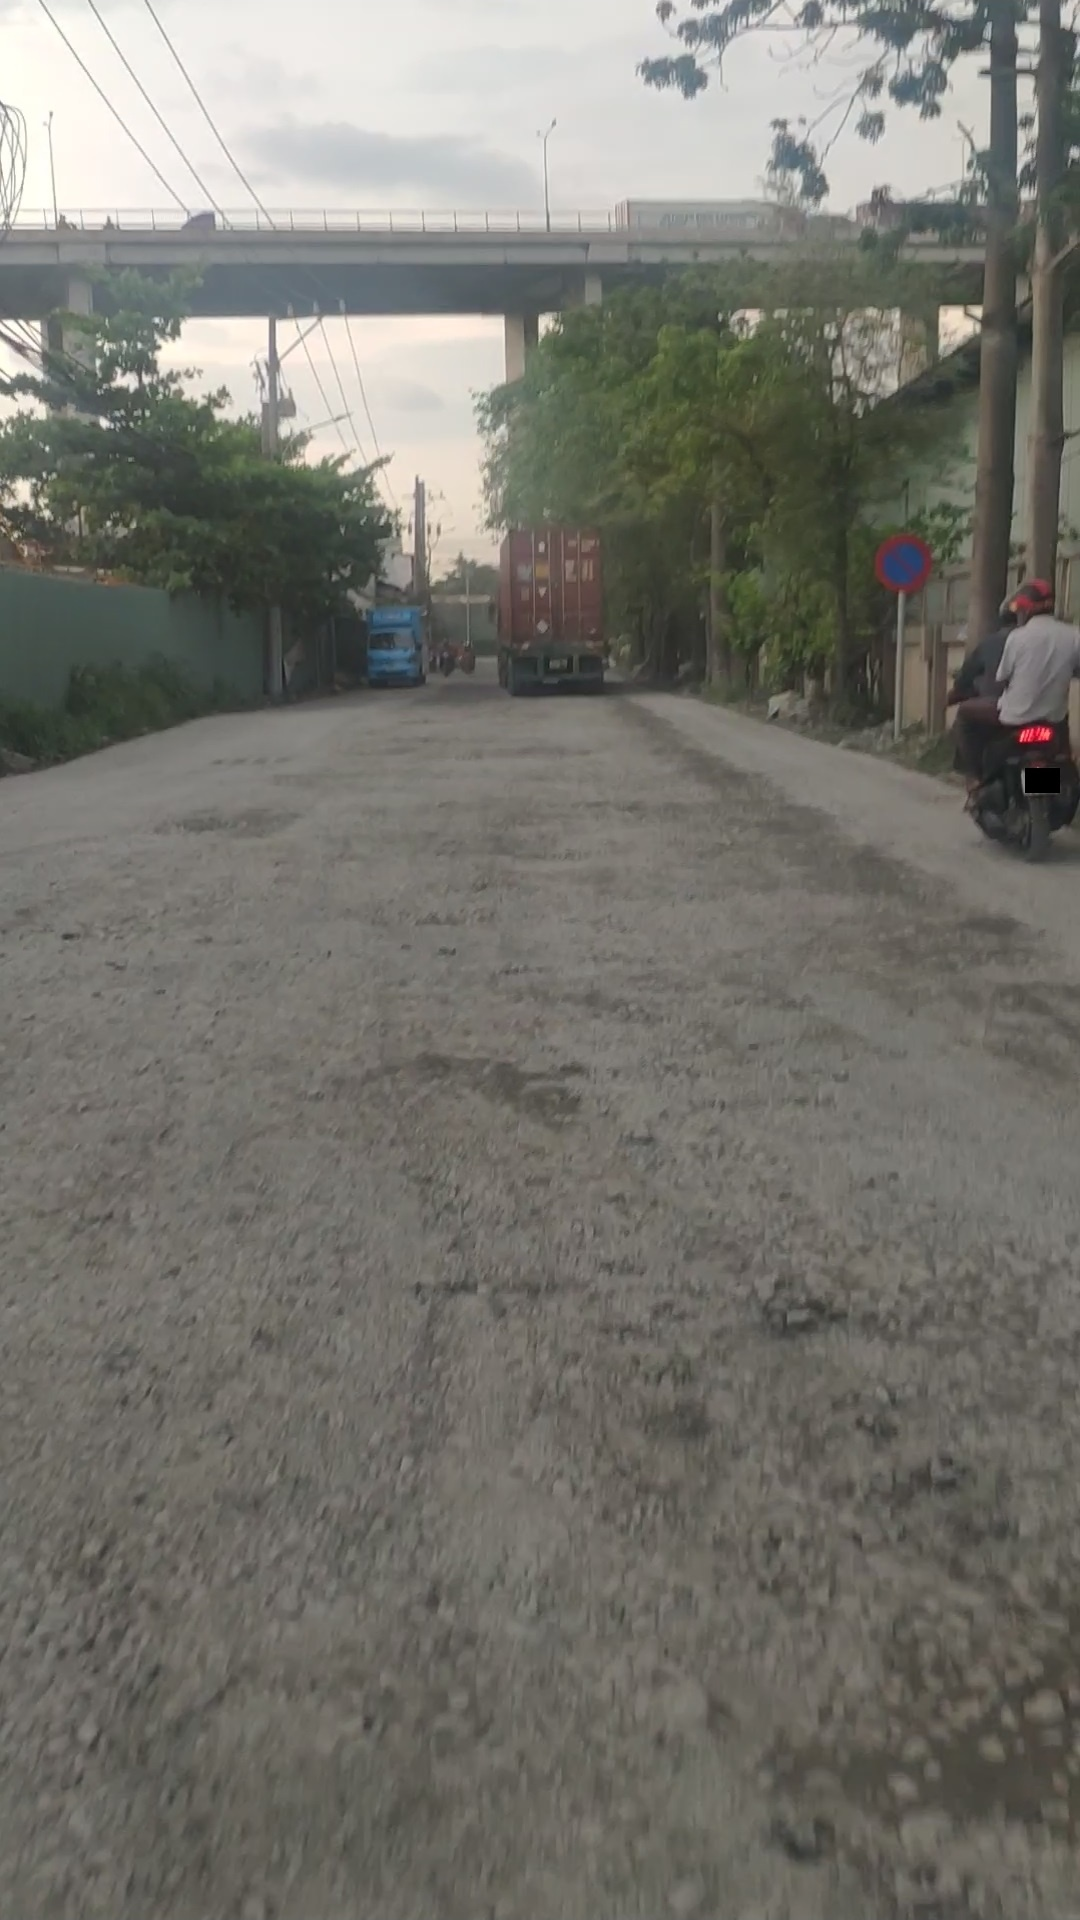hole: (978, 975, 1080, 1076), (145, 795, 309, 847), (439, 831, 615, 874), (909, 934, 1062, 980), (560, 791, 723, 820), (450, 738, 601, 766), (339, 742, 423, 761)
